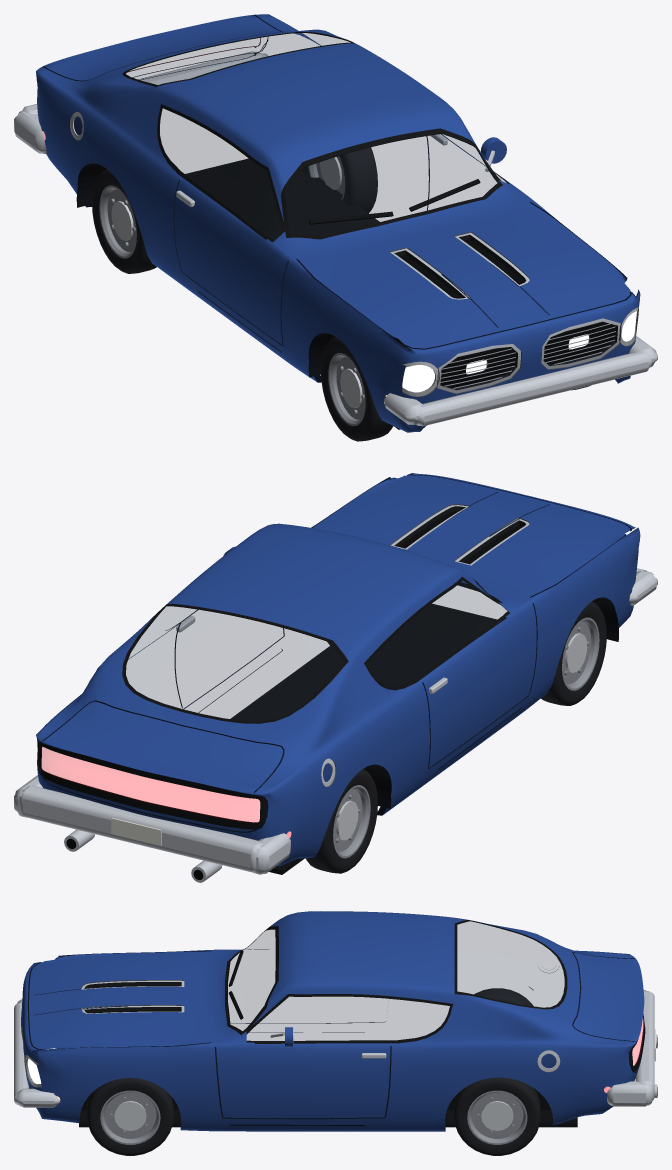
The model's file is car_muscle_blue.glb.
The picture shows the model from 3 angles, top to bottom: view 1: azimuth 30°, elevation 25°; view 2: azimuth 150°, elevation 25°; view 3: azimuth 270°, elevation 25°; orthographic projection. The views are drawn at different scales.
Visible parts, largest first — view 1: body, wheel_fl, wheel_rl, wheel_rr; view 2: body, wheel_rl, wheel_fl; view 3: body, wheel_rr, wheel_fr, wheel_rl.
Boxes of the visible parts, left/top/right/bottom form: body: left=14, top=14, right=657, bottom=432; wheel_fl: left=321, top=337, right=393, bottom=441; wheel_rl: left=92, top=169, right=156, bottom=273; wheel_rr: left=302, top=147, right=377, bottom=213; body: left=14, top=473, right=657, bottom=882; wheel_rl: left=305, top=769, right=377, bottom=873; wheel_fl: left=541, top=601, right=606, bottom=705; body: left=14, top=911, right=657, bottom=1131; wheel_rr: left=453, top=1077, right=540, bottom=1155; wheel_fr: left=86, top=1078, right=174, bottom=1155; wheel_rl: left=474, top=988, right=533, bottom=1006.
Bounding box in the file's own units: 1.9 × 1.44 × 4.92.
